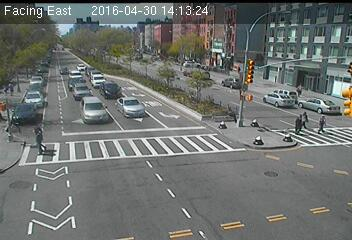neg: (229, 104, 249, 131), (241, 58, 256, 79), (181, 79, 195, 98), (307, 42, 320, 60), (111, 95, 124, 112), (221, 25, 234, 42), (219, 54, 231, 71), (157, 73, 169, 88), (54, 66, 62, 77), (71, 61, 79, 72)
pos: (31, 130, 49, 155), (317, 114, 332, 134), (293, 114, 308, 134), (294, 82, 308, 100), (7, 83, 17, 95)
